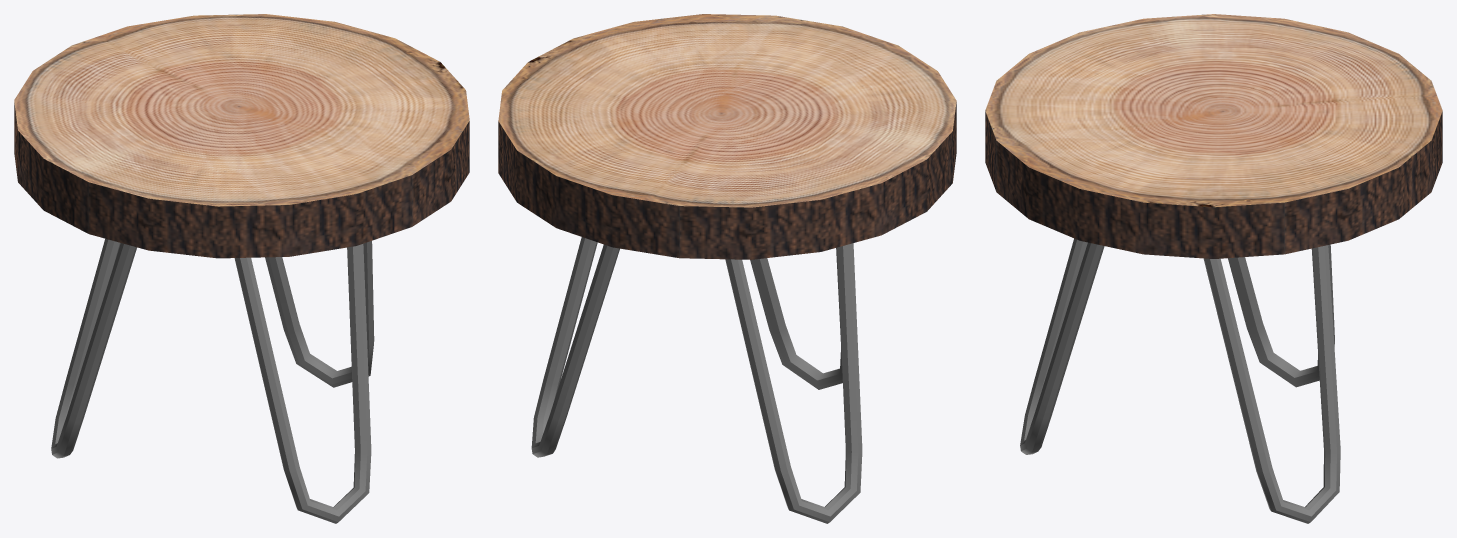
File: little-table.glb
The picture shows the model from 3 angles, left to right: view 1: azimuth 30°, elevation 25°; view 2: azimuth 150°, elevation 25°; view 3: azimuth 270°, elevation 25°; orthographic projection.
Visible parts, largest first — view 1: Tabletop_Leg_Bent3_lambert3_0; view 2: Tabletop_Leg_Bent3_lambert3_0; view 3: Tabletop_Leg_Bent3_lambert3_0.
Boxes of the visible parts, x1,y1,x2,y2 form: Tabletop_Leg_Bent3_lambert3_0: (14, 14, 469, 523); Tabletop_Leg_Bent3_lambert3_0: (498, 14, 956, 523); Tabletop_Leg_Bent3_lambert3_0: (985, 14, 1442, 523).
Size of the model in its own units: 0.8 by 0.6645 by 0.8.
1 material, 1 textured.
